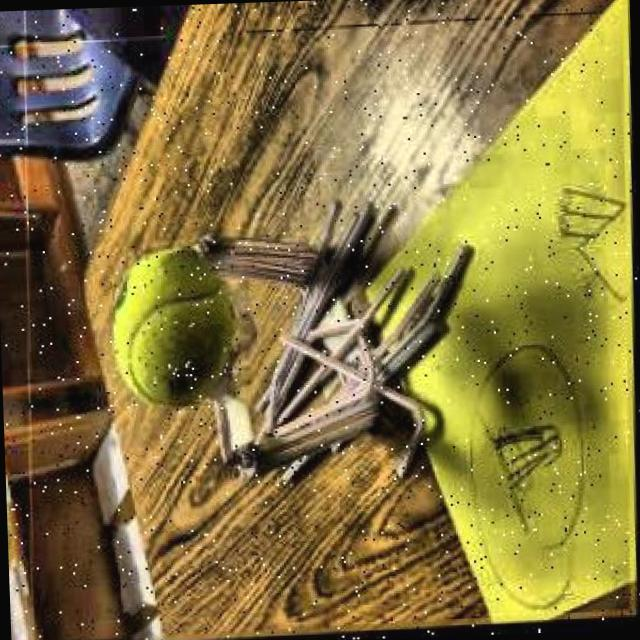tennis-ball: (112, 251, 256, 408)
